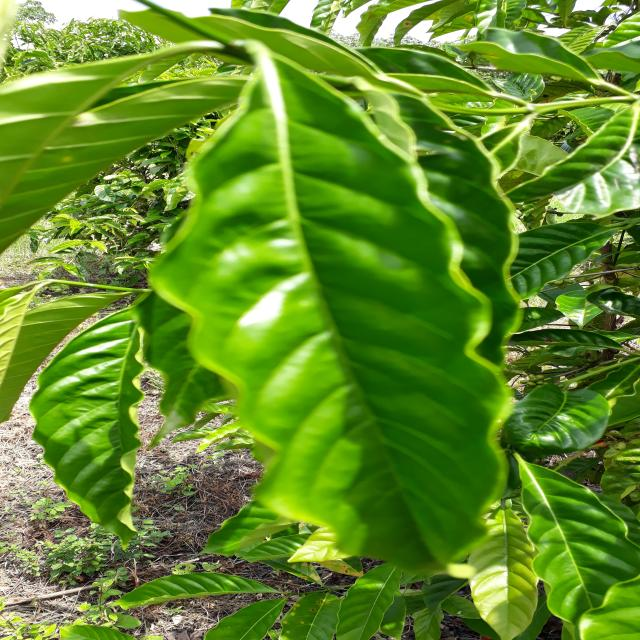Sanas: (149, 45, 511, 572)
